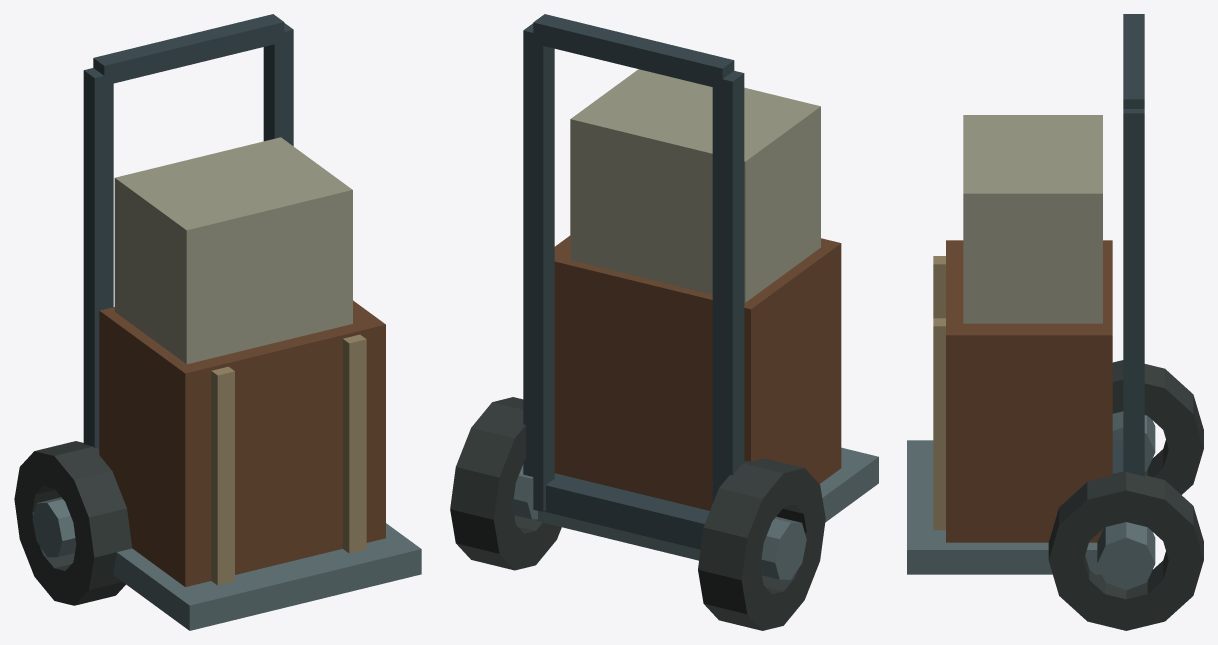
Rendered from Prop_Daily_LuggageHandtruck_001_LOD1.glb.
3 views of the same model, side by side, from view 1: azimuth 30°, elevation 25°; view 2: azimuth 150°, elevation 25°; view 3: azimuth 270°, elevation 25° (orthographic). The views are drawn at different scales.
Visible parts, largest first — view 1: Prop_Daily_LuggageHandtruck_001_LOD1; view 2: Prop_Daily_LuggageHandtruck_001_LOD1; view 3: Prop_Daily_LuggageHandtruck_001_LOD1.
Part boxes in pixels (x1,y1,x2,y2): Prop_Daily_LuggageHandtruck_001_LOD1: (14, 14, 421, 630); Prop_Daily_LuggageHandtruck_001_LOD1: (450, 14, 878, 630); Prop_Daily_LuggageHandtruck_001_LOD1: (907, 14, 1203, 630).
Size of the model in its own units: 0.84 by 1.45 by 0.765.
